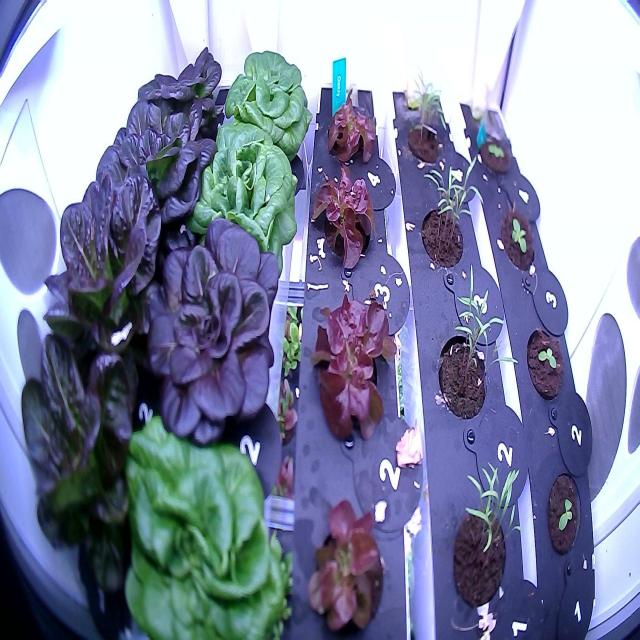Ready: (15, 309, 157, 636), (116, 411, 297, 640), (128, 206, 284, 454), (34, 132, 175, 388), (84, 82, 224, 264), (180, 111, 303, 276), (220, 37, 317, 165), (126, 35, 226, 153)
germination: (543, 464, 583, 560), (523, 321, 567, 404), (474, 124, 516, 182)
young: (498, 200, 540, 275)
